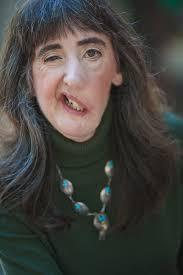strokeEyeSevere: (35, 37, 106, 68)
strokeMouthSevere: (55, 88, 96, 120)
